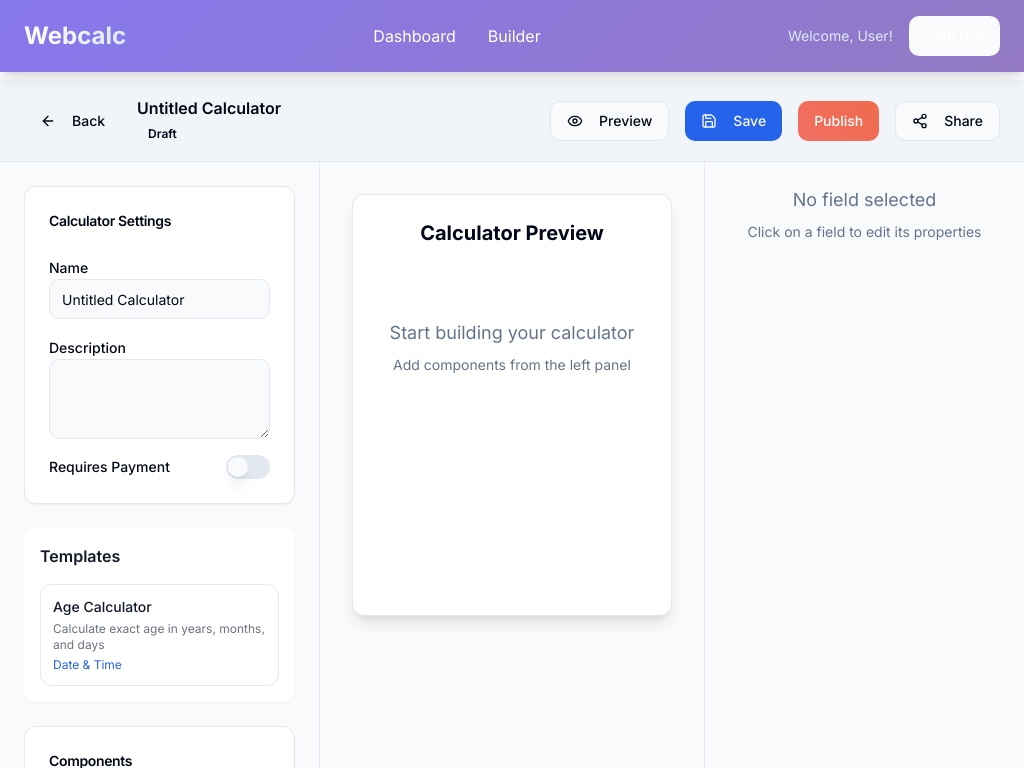
Test: Calculator Workflow Integration › publishes calculator workflow
// Create calculator
Step 1. Replace the text in the field with test id "input-calculator-name" with "Published Calculator" → x=160, y=299, box x1=49 y1=279 x2=270 y2=319
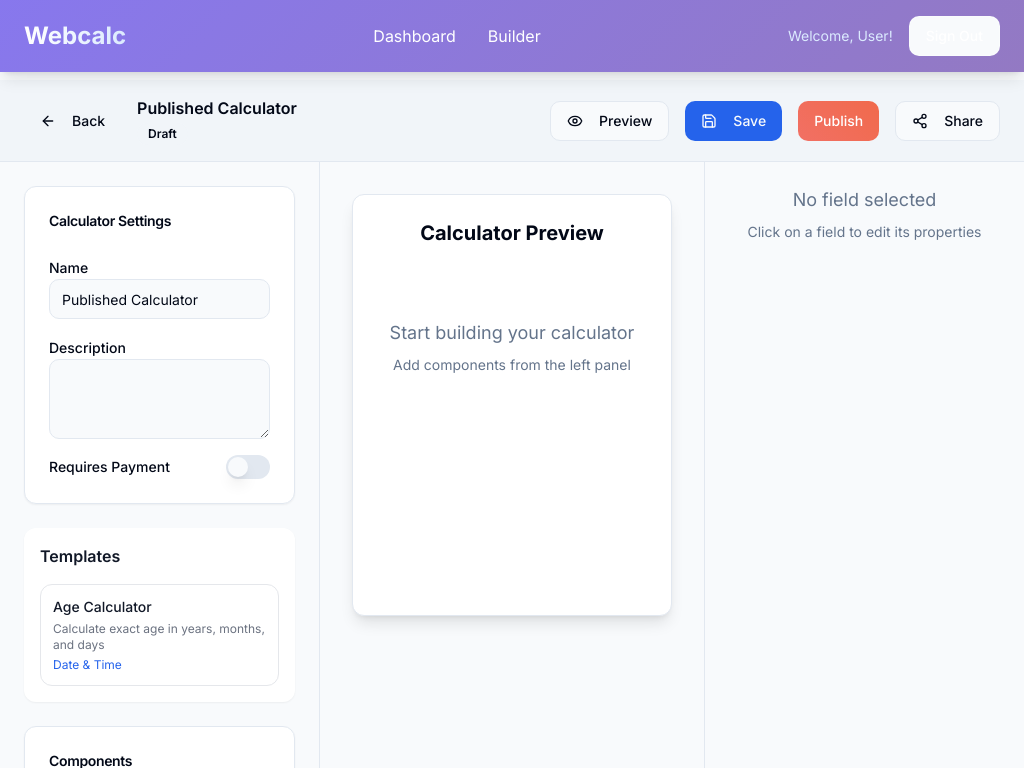
Step 2. Click the button with test id "button-publish" → x=839, y=120, box x1=798 y1=100 x2=879 y2=140
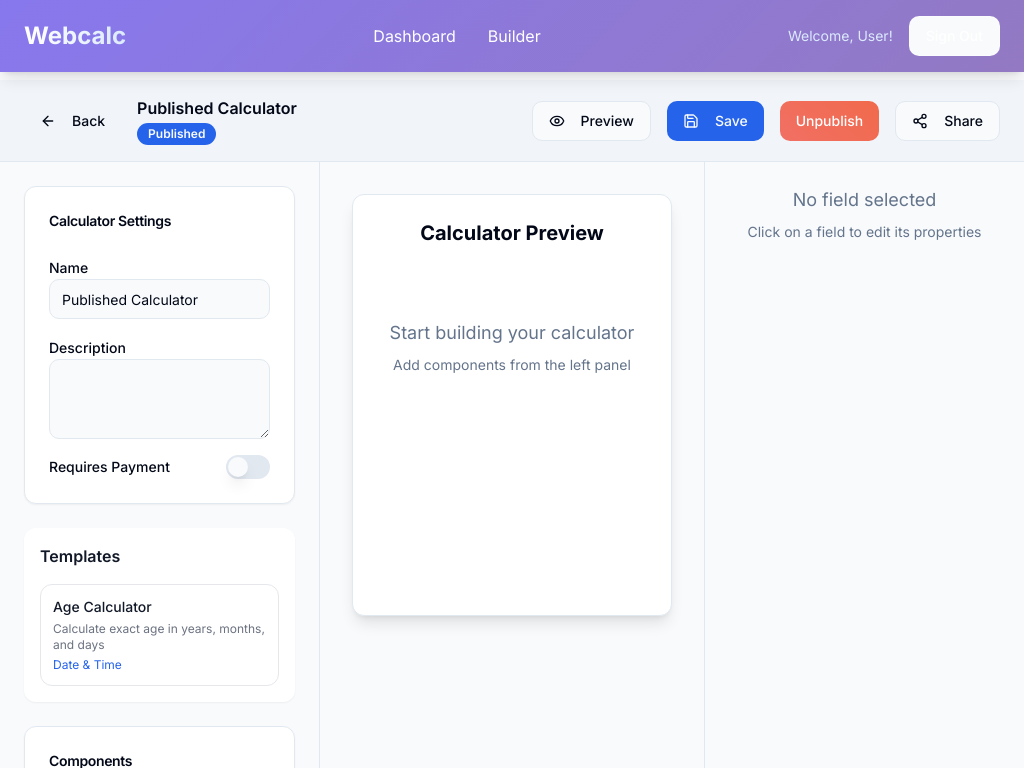
Expected: the text "Published" is shown, x1=137 y1=123 x2=216 y2=145
